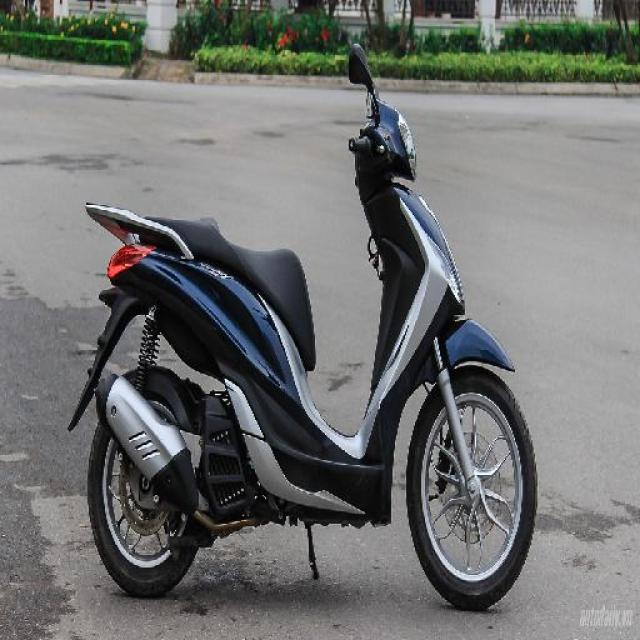All: (67, 52, 538, 606)
Head: (340, 92, 421, 186)
Tail: (83, 189, 164, 286)
